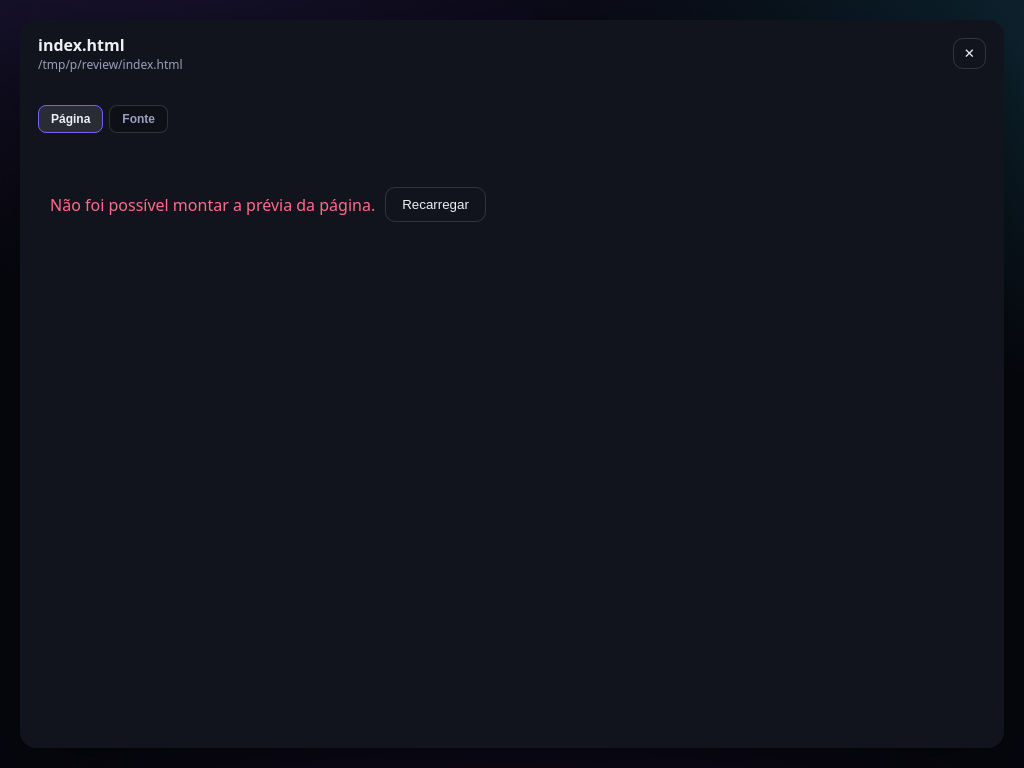
it: arquivo HTML no visualizador › se a emissão falhar, avisa e o fonte continua acessível
The width and height of the screenshot is (1024, 768).
expect the text "Não foi possível montar a prévia da página. Recarregar" is shown: met, box [50,187,486,222]
Click the button "Fonte": (139, 119) [109,105,168,133]
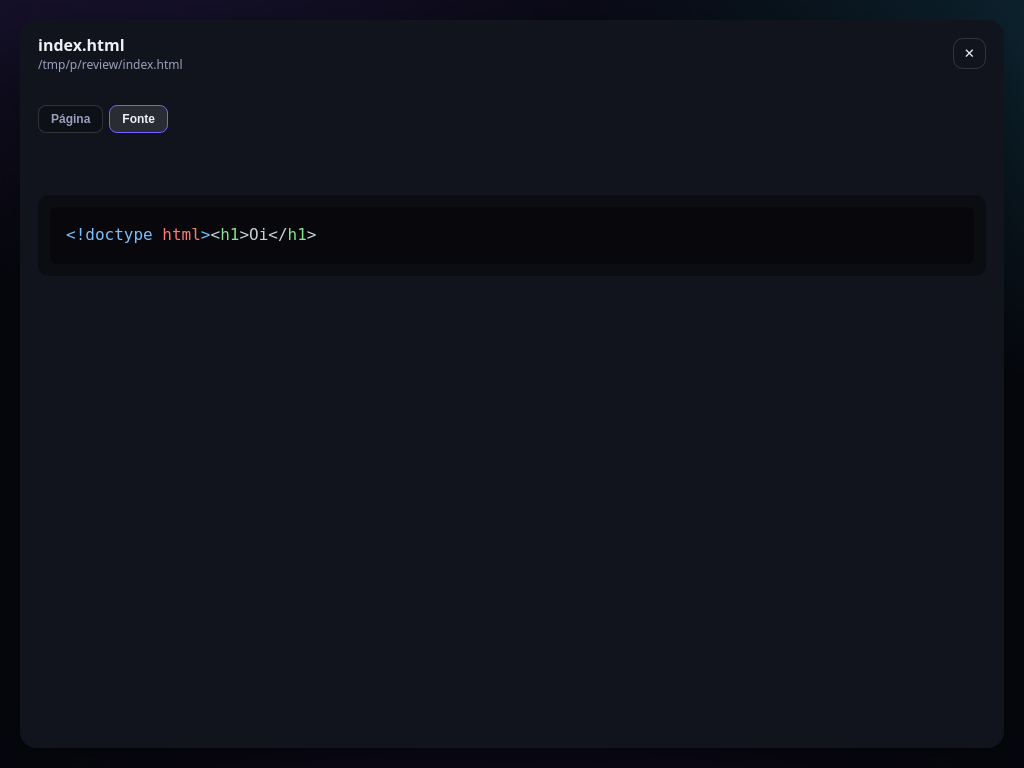
expect the element with class "code-preview" is shown: met, box [38,179,986,292]
